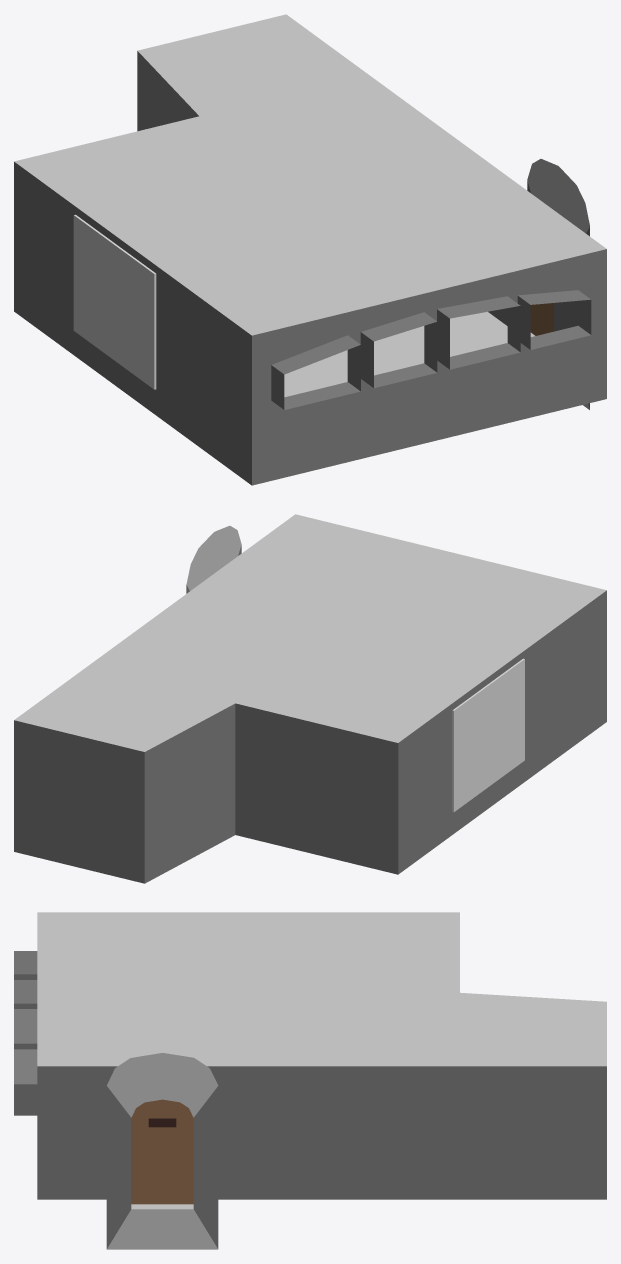
The model's file is workRoom.fbx.
3 renders of one model, top to bottom at view 1: azimuth 30°, elevation 25°; view 2: azimuth 150°, elevation 25°; view 3: azimuth 270°, elevation 25°, orthographic. The views are drawn at different scales.
Parts seen in each view (by area): view 1: Cube, Cube.005, Plane; view 2: Cube, Cube.005; view 3: Cube, Plane.
Part boxes in pixels (x1,y1,x2,y2): Cube: [14, 14, 606, 485]; Cube.005: [73, 214, 156, 389]; Plane: [530, 303, 553, 335]; Cube: [14, 514, 606, 883]; Cube.005: [452, 658, 524, 811]; Cube: [14, 912, 606, 1249]; Plane: [131, 1099, 193, 1204].
Size of the model in its own units: 2657 by 1483 by 4051.
